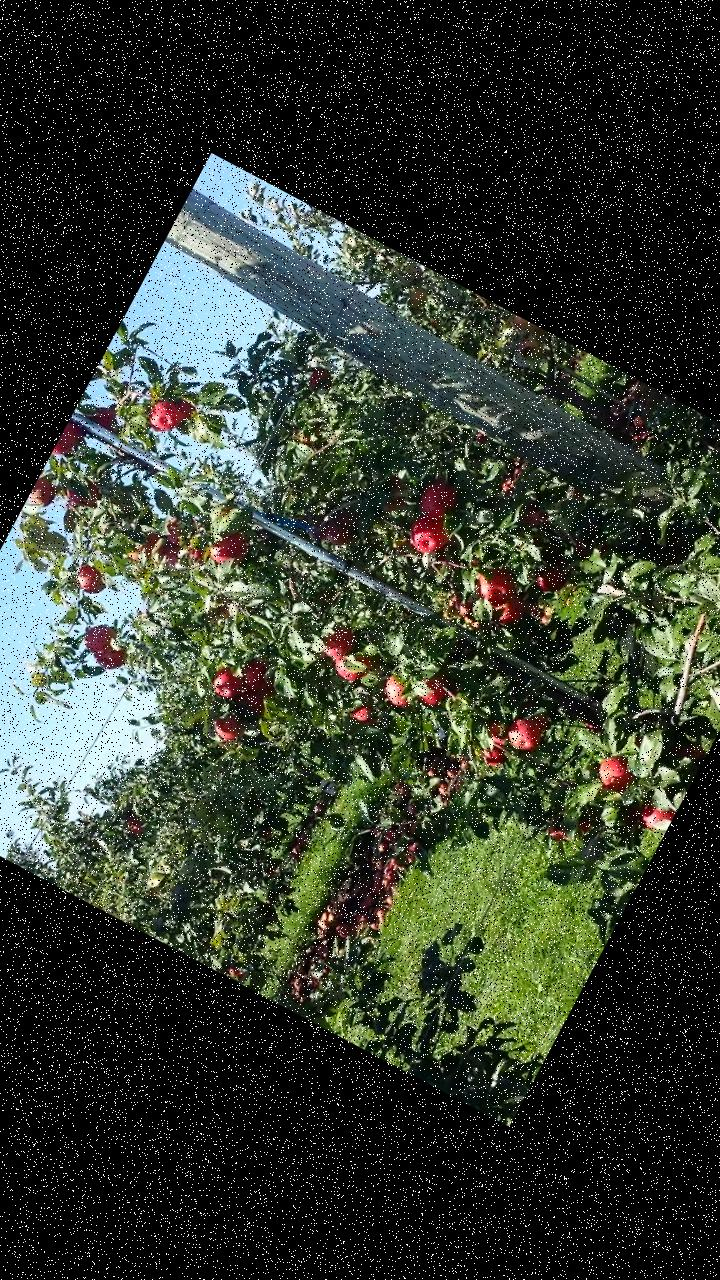Apple: (470, 558, 522, 609), (542, 802, 592, 852), (403, 510, 452, 559), (590, 749, 638, 798), (76, 614, 123, 662), (206, 524, 251, 572), (413, 476, 459, 522), (500, 711, 544, 756), (328, 644, 374, 687), (229, 674, 274, 716), (321, 507, 363, 550), (59, 472, 103, 512), (66, 559, 110, 599), (316, 619, 356, 662), (142, 392, 182, 434), (488, 590, 530, 630), (235, 656, 276, 696), (206, 710, 248, 749), (635, 798, 675, 838), (89, 636, 129, 674), (26, 473, 63, 513), (125, 527, 162, 566), (378, 672, 417, 709), (50, 422, 84, 464), (207, 664, 245, 701), (516, 696, 556, 730), (516, 500, 552, 536), (302, 362, 336, 398), (476, 736, 510, 771), (672, 737, 708, 770), (479, 715, 514, 748), (413, 676, 447, 709), (534, 560, 566, 594), (158, 513, 190, 544), (181, 541, 213, 570), (168, 396, 197, 427), (564, 534, 594, 562), (155, 538, 184, 566), (348, 696, 376, 724), (90, 404, 119, 431), (448, 596, 474, 620), (461, 612, 486, 633)
